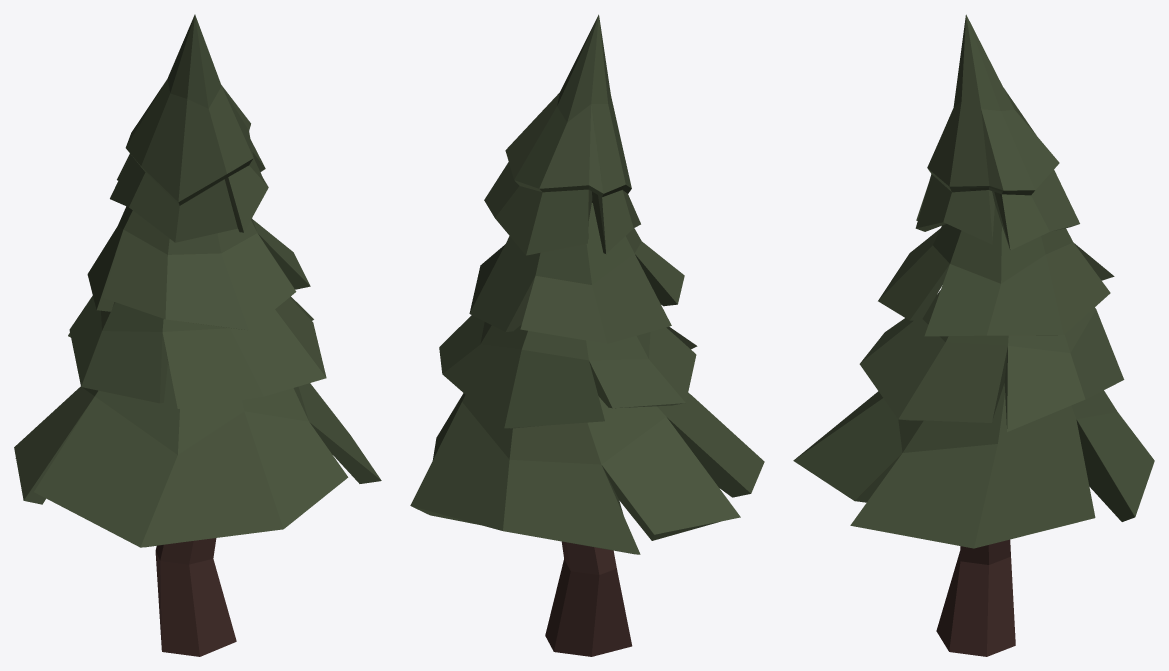
The model's file is pine_tree_low_poly_V3.fbx.
3 views of the same model, side by side, from view 1: azimuth 30°, elevation 25°; view 2: azimuth 150°, elevation 25°; view 3: azimuth 270°, elevation 25° (orthographic).
Visible parts, largest first — view 1: Circle.046; view 2: Circle.046; view 3: Circle.046.
Part boxes in pixels (x1,y1,x2,y2): Circle.046: (14,14,381,656); Circle.046: (410,14,764,656); Circle.046: (793,14,1154,656).
Bounding box in the file's own units: 164 × 310 × 164.
